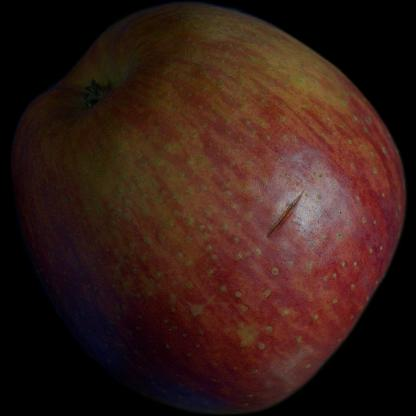defect: (244, 171, 314, 268)
